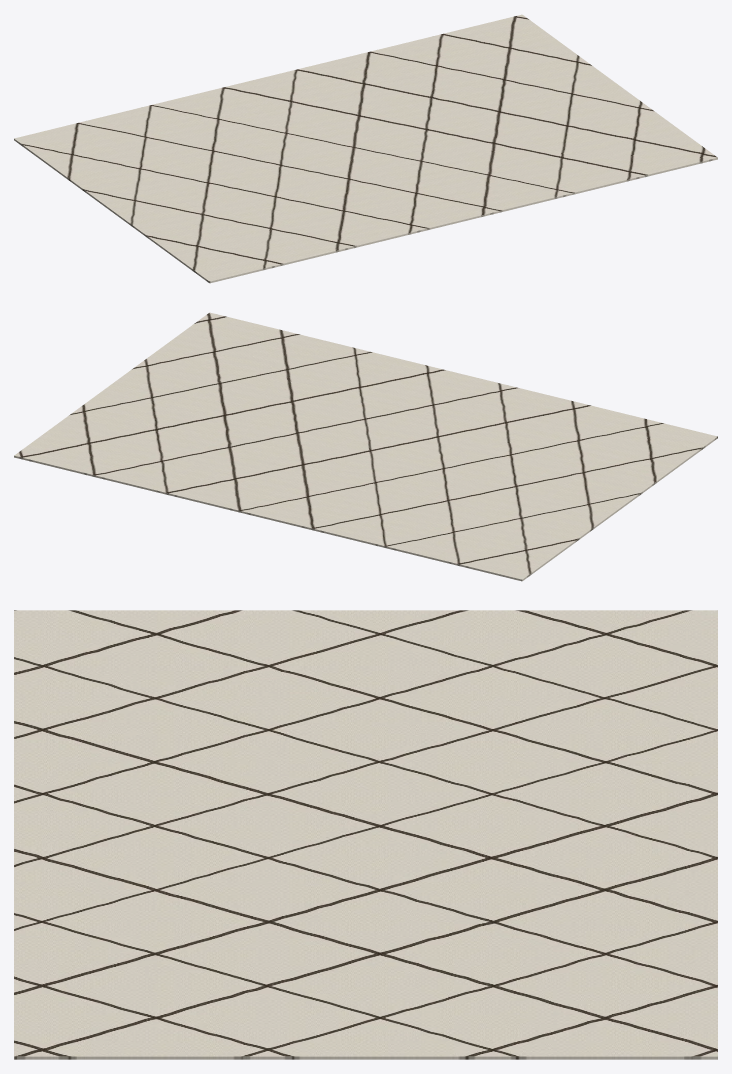
File: alfombra_bereber_200x300.glb
3 views of the same model, one above another, from view 1: azimuth 30°, elevation 25°; view 2: azimuth 150°, elevation 25°; view 3: azimuth 270°, elevation 25° (orthographic). The views are drawn at different scales.
Parts seen in each view (by area): view 1: alfombra_bereber_200x300; view 2: alfombra_bereber_200x300; view 3: alfombra_bereber_200x300.
Boxes of the visible parts, x1=… form: alfombra_bereber_200x300: x1=14, y1=14, x2=717, y2=283; alfombra_bereber_200x300: x1=14, y1=312, x2=717, y2=581; alfombra_bereber_200x300: x1=14, y1=610, x2=717, y2=1059.
Bounding box in the file's own units: 3 × 0.01 × 2.
1 material, 1 textured.
